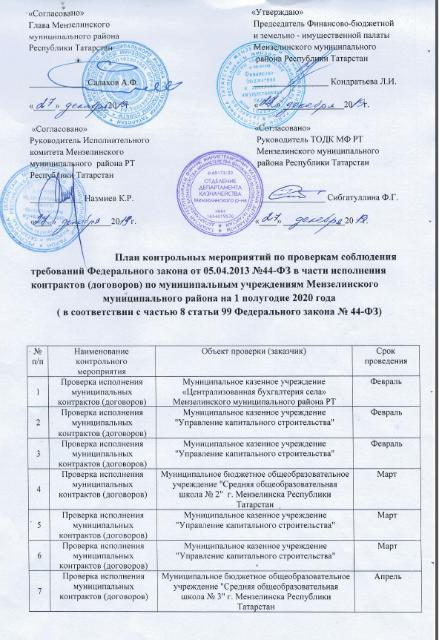stamp: (216, 42, 305, 130), (176, 150, 264, 238), (84, 40, 170, 128), (2, 163, 86, 253)
